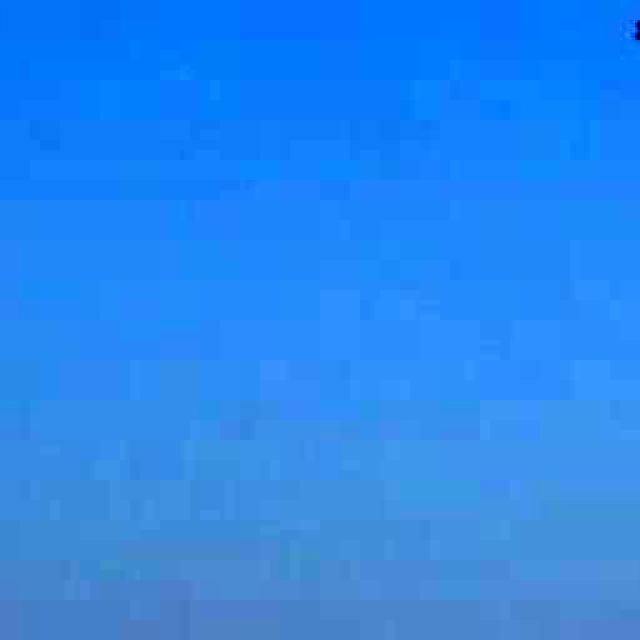bird: (608, 0, 640, 70)
